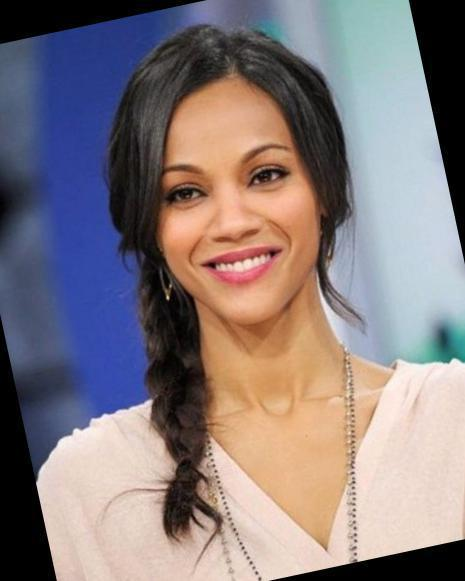Sober: (160, 114, 313, 305)
